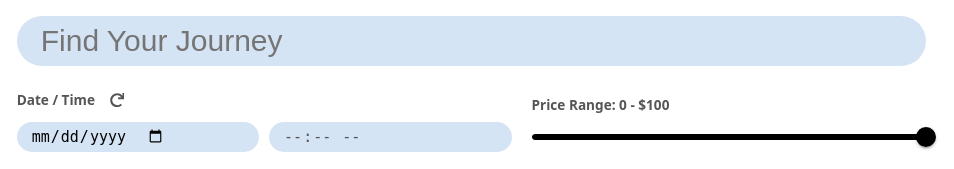
Test case: make sure that you can only select time after selecting a date
Expected: the time field with id "search_time" is disabled, [269,122,512,152]
Step 1. Type "2026-03-20" into the date field labelled "Date / Time" → (138,137), box [17,122,259,152]
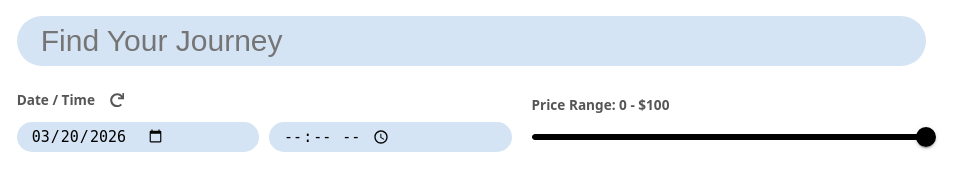
Expected: the time field with id "search_time" is enabled
Step 2. Type "10:30" into the time field with id "search_time" → (390,137), box [269,122,512,152]
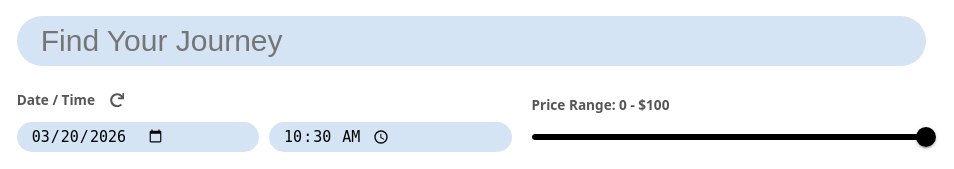
Step 3. Clear the date field labelled "Date / Time" → (138,137), box [17,122,259,152]
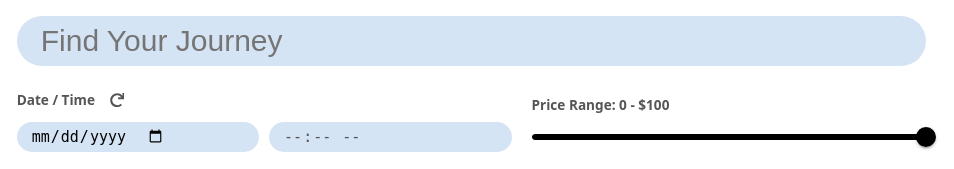
Expected: the time field with id "search_time" is disabled, [269,122,512,152]
